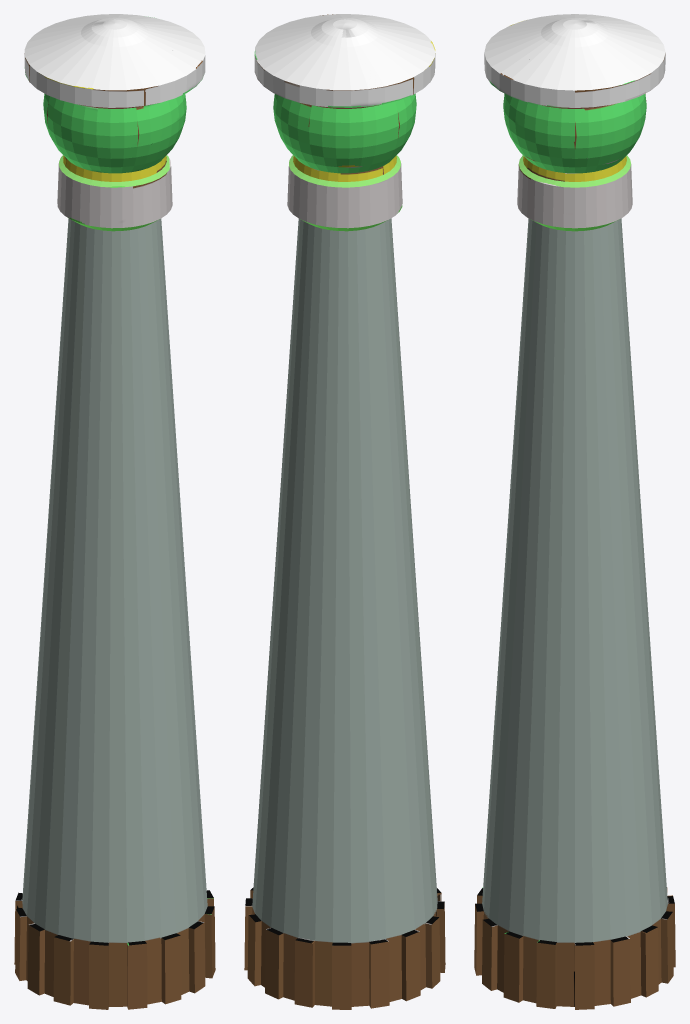
File: tower.glb
3 renders of one model, left to right at view 1: azimuth 30°, elevation 25°; view 2: azimuth 150°, elevation 25°; view 3: azimuth 270°, elevation 25°, orthographic.
Parts seen in each view (by area): view 1: Cylinder; view 2: Cylinder; view 3: Cylinder.
Part boxes in pixels (box(x1,y1,x2,y2)): Cylinder: box(14, 14, 215, 1009); Cylinder: box(244, 14, 445, 1009); Cylinder: box(474, 14, 675, 1009).
Bounding box in the file's own units: 1.3 × 6.69 × 1.3.
Materials: 1 (1 with a texture image).
